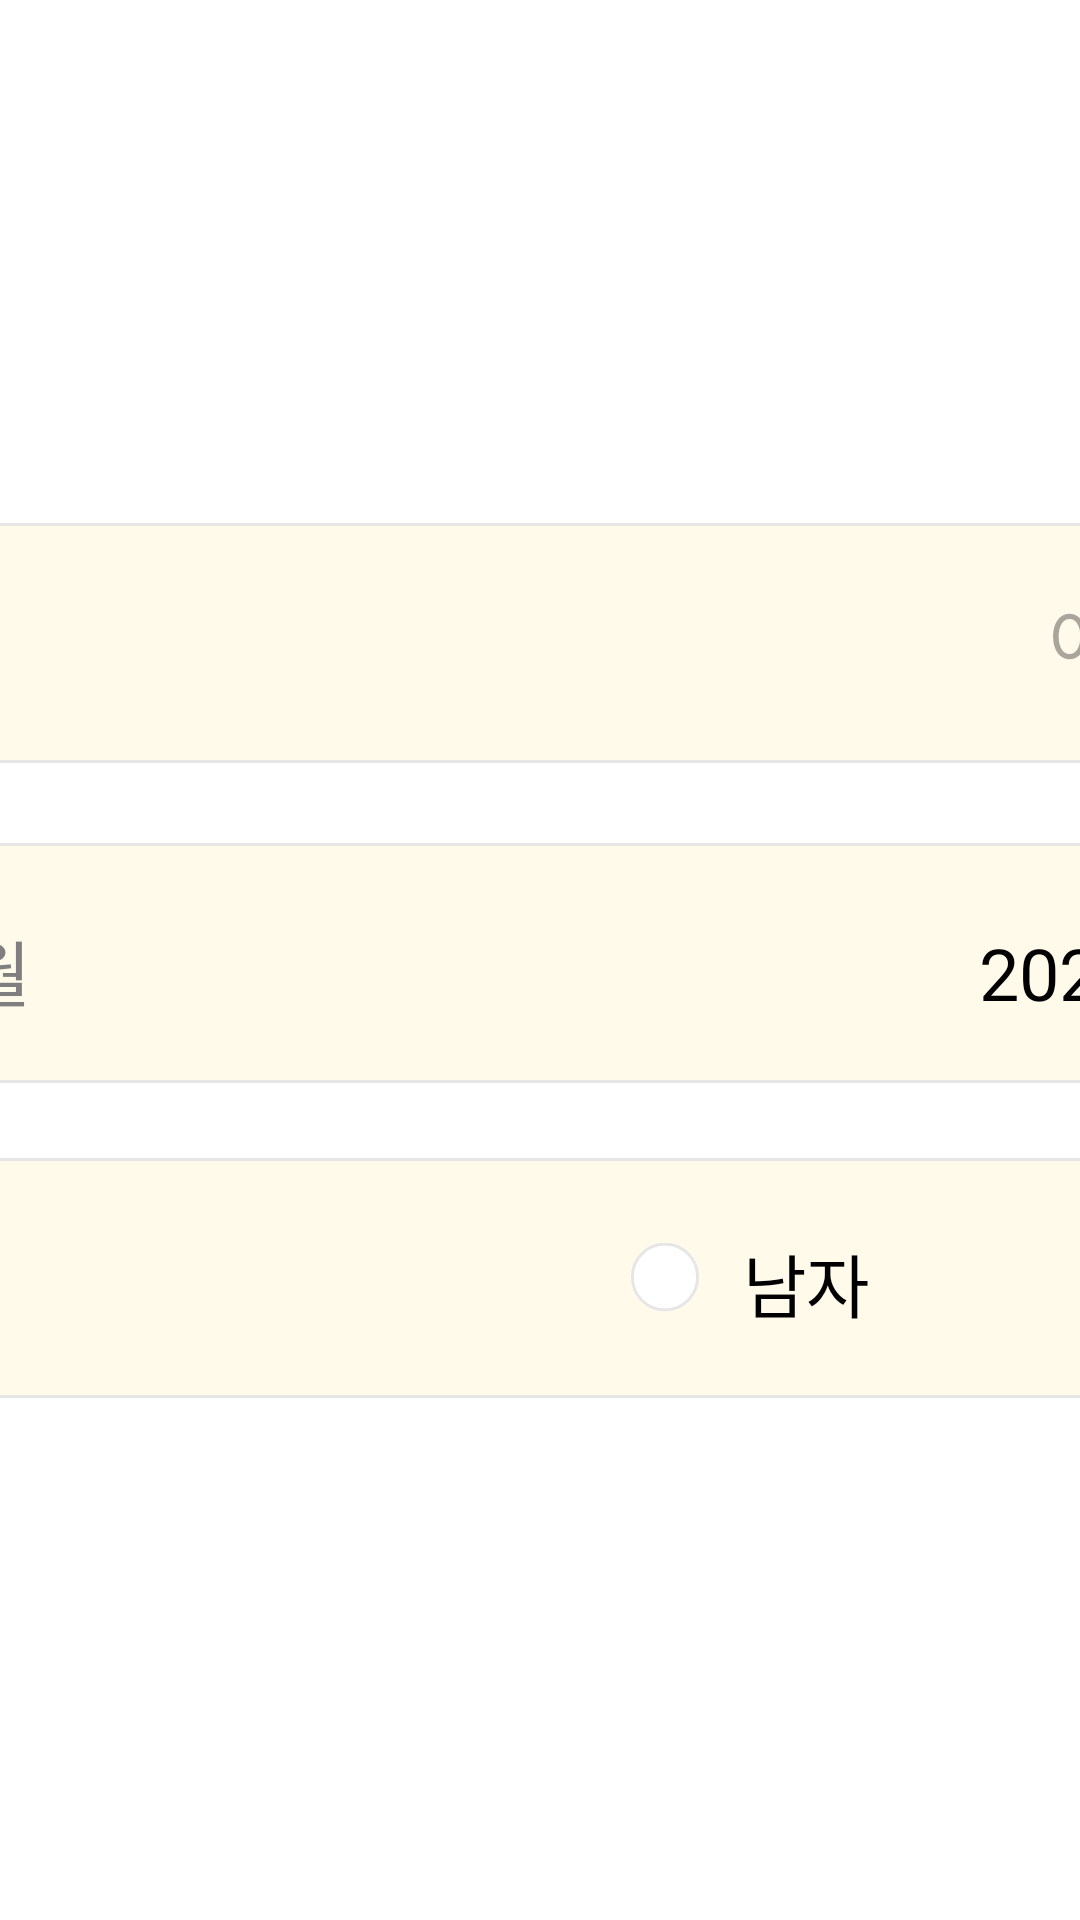

Named icons in this screenshot (1080*1920) and their bounding boxes, (x1, y1, x2, y2):
radio: (631, 1243, 699, 1311)
